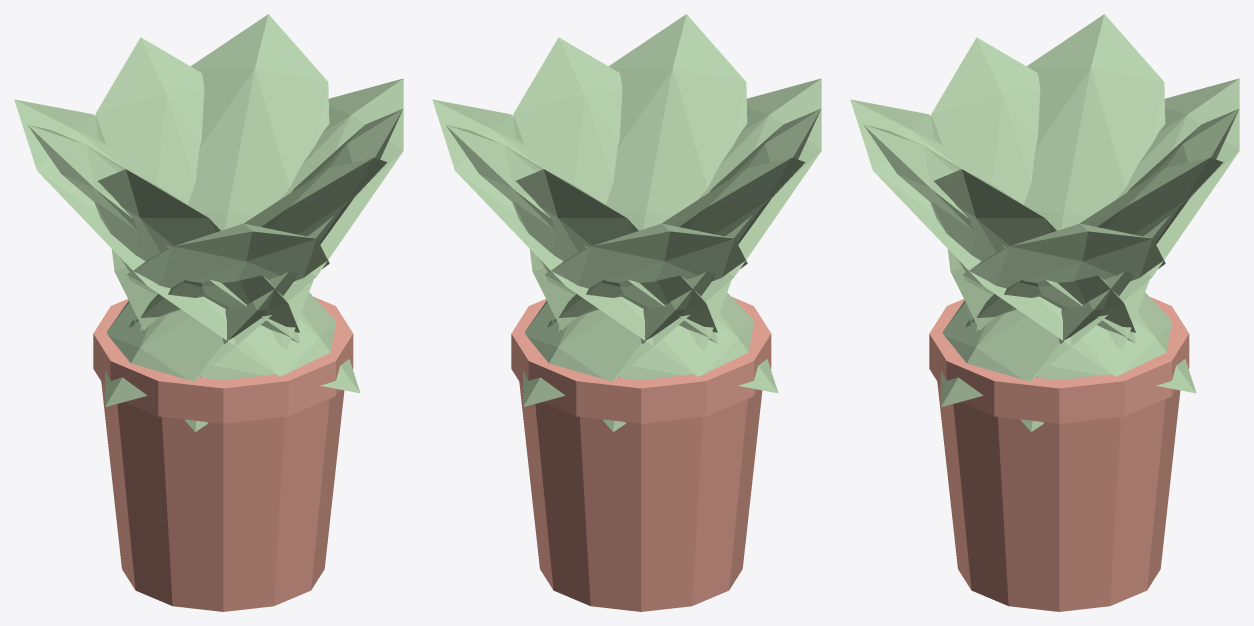
Rendered from cozy-home-interiors-plant-large-f54433e5.glb.
The picture shows the model from 3 angles, left to right: view 1: azimuth 30°, elevation 25°; view 2: azimuth 150°, elevation 25°; view 3: azimuth 270°, elevation 25°; orthographic projection.
Visible parts, largest first — view 1: plant-large; view 2: plant-large; view 3: plant-large.
Part boxes in pixels (<box>): plant-large: <box>14,14,403,611</box>; plant-large: <box>432,14,821,611</box>; plant-large: <box>850,14,1239,611</box>.
Bounding box in the file's own units: 0.6544 × 0.7988 × 0.5995.
